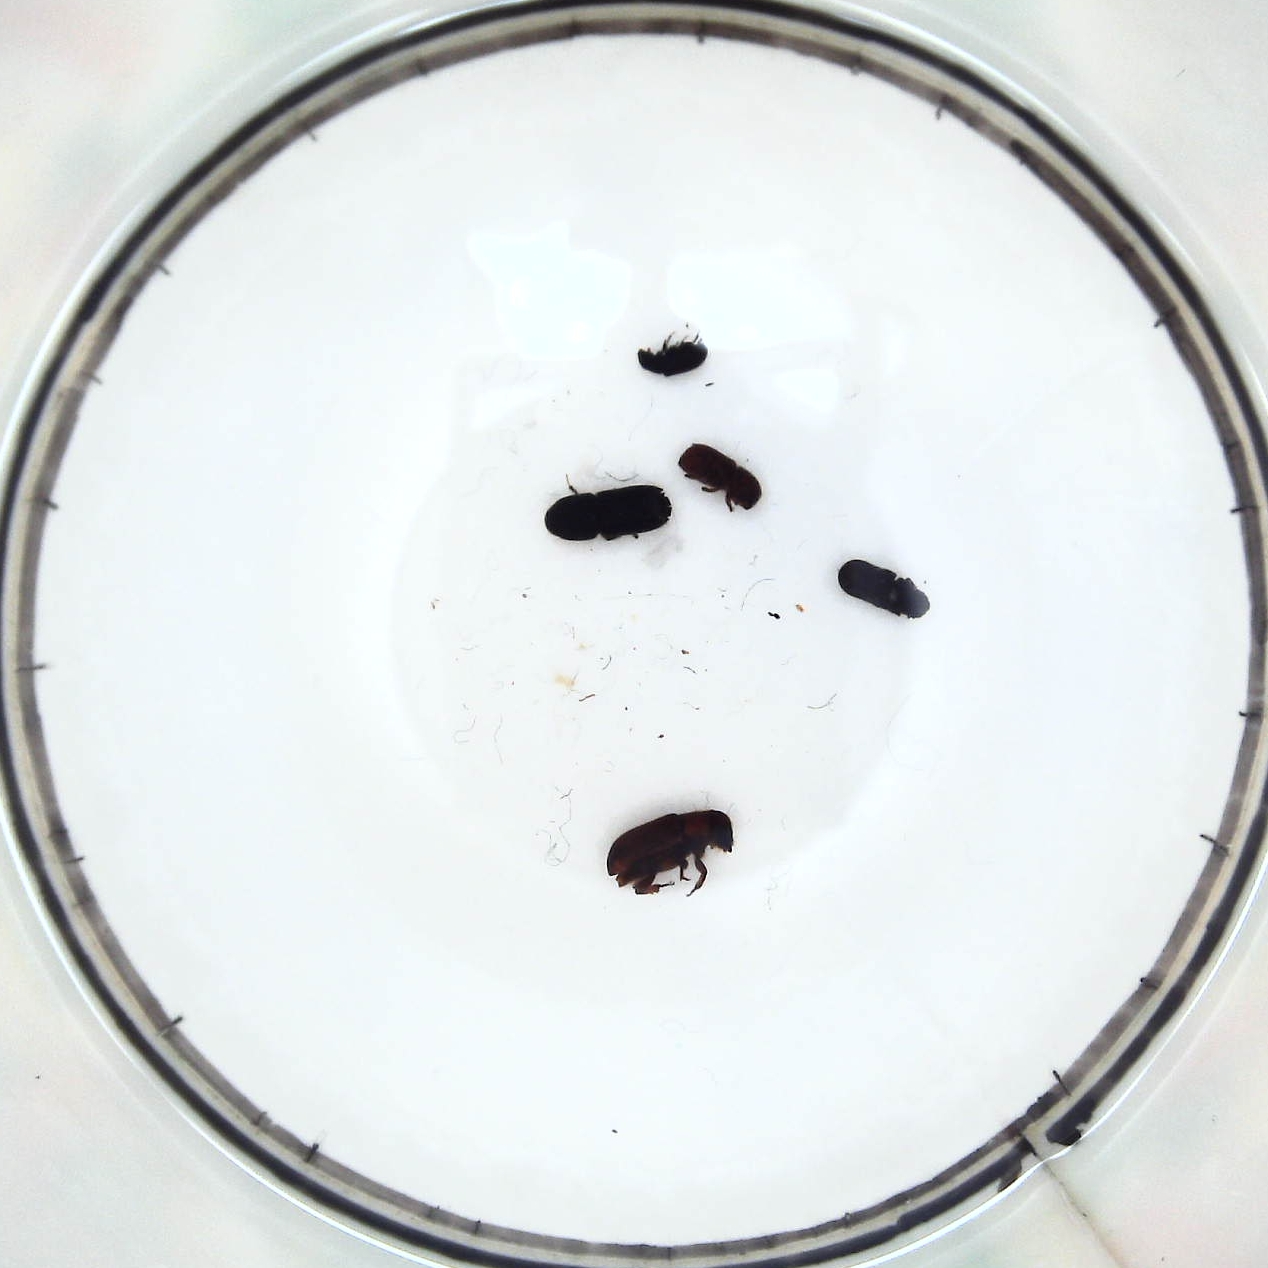Boerner: (541, 480, 671, 543)
Leconte: (604, 807, 737, 898)
Linnaeus: (675, 440, 759, 510)
armandi: (835, 549, 934, 622)
coleoptera: (634, 329, 709, 379)
